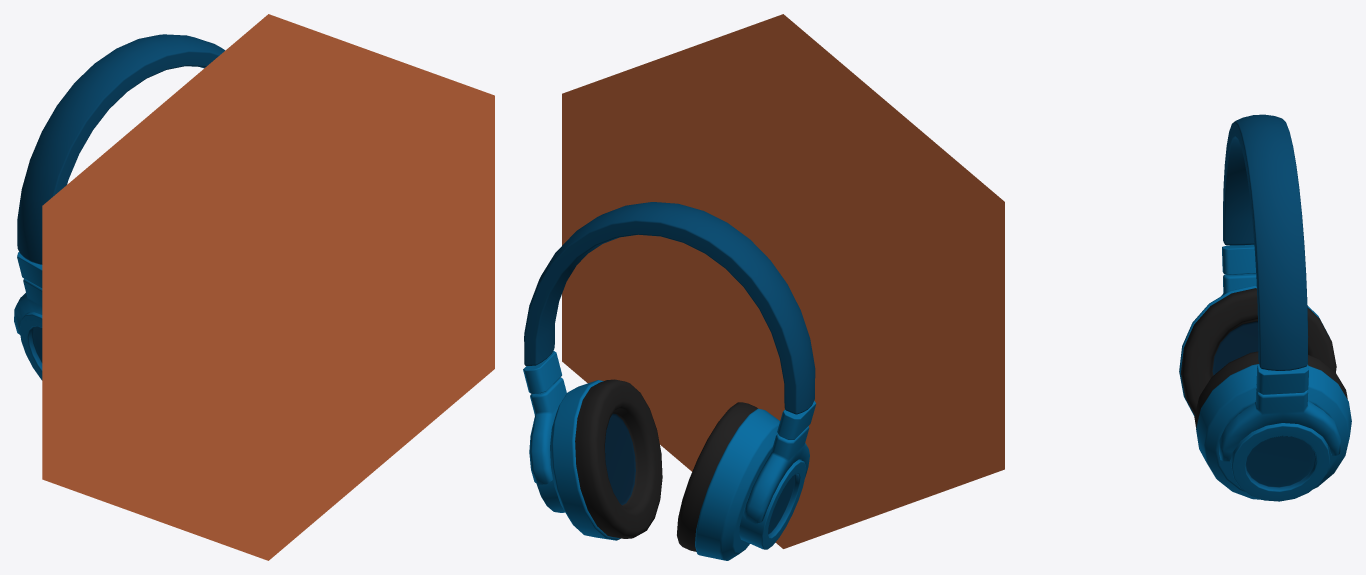
The model's file is headphoneblah.fbx.
3 views of the same model, side by side, from view 1: azimuth 30°, elevation 25°; view 2: azimuth 150°, elevation 25°; view 3: azimuth 270°, elevation 25° (orthographic). The views are drawn at different scales.
Visible parts, largest first — view 1: background_01, Headphones_01; view 2: background_01, Headphones_01; view 3: Headphones_01.
Part boxes in pixels (x1,y1,x2,y2): background_01: (42,14,494,560); Headphones_01: (14,34,225,380); background_01: (562,14,1004,548); Headphones_01: (523,202,816,560); Headphones_01: (1179,114,1351,501).
Bounding box in the file's own units: 15.42 × 17.81 × 9.41.
Materials: 2 (1 with a texture image).
